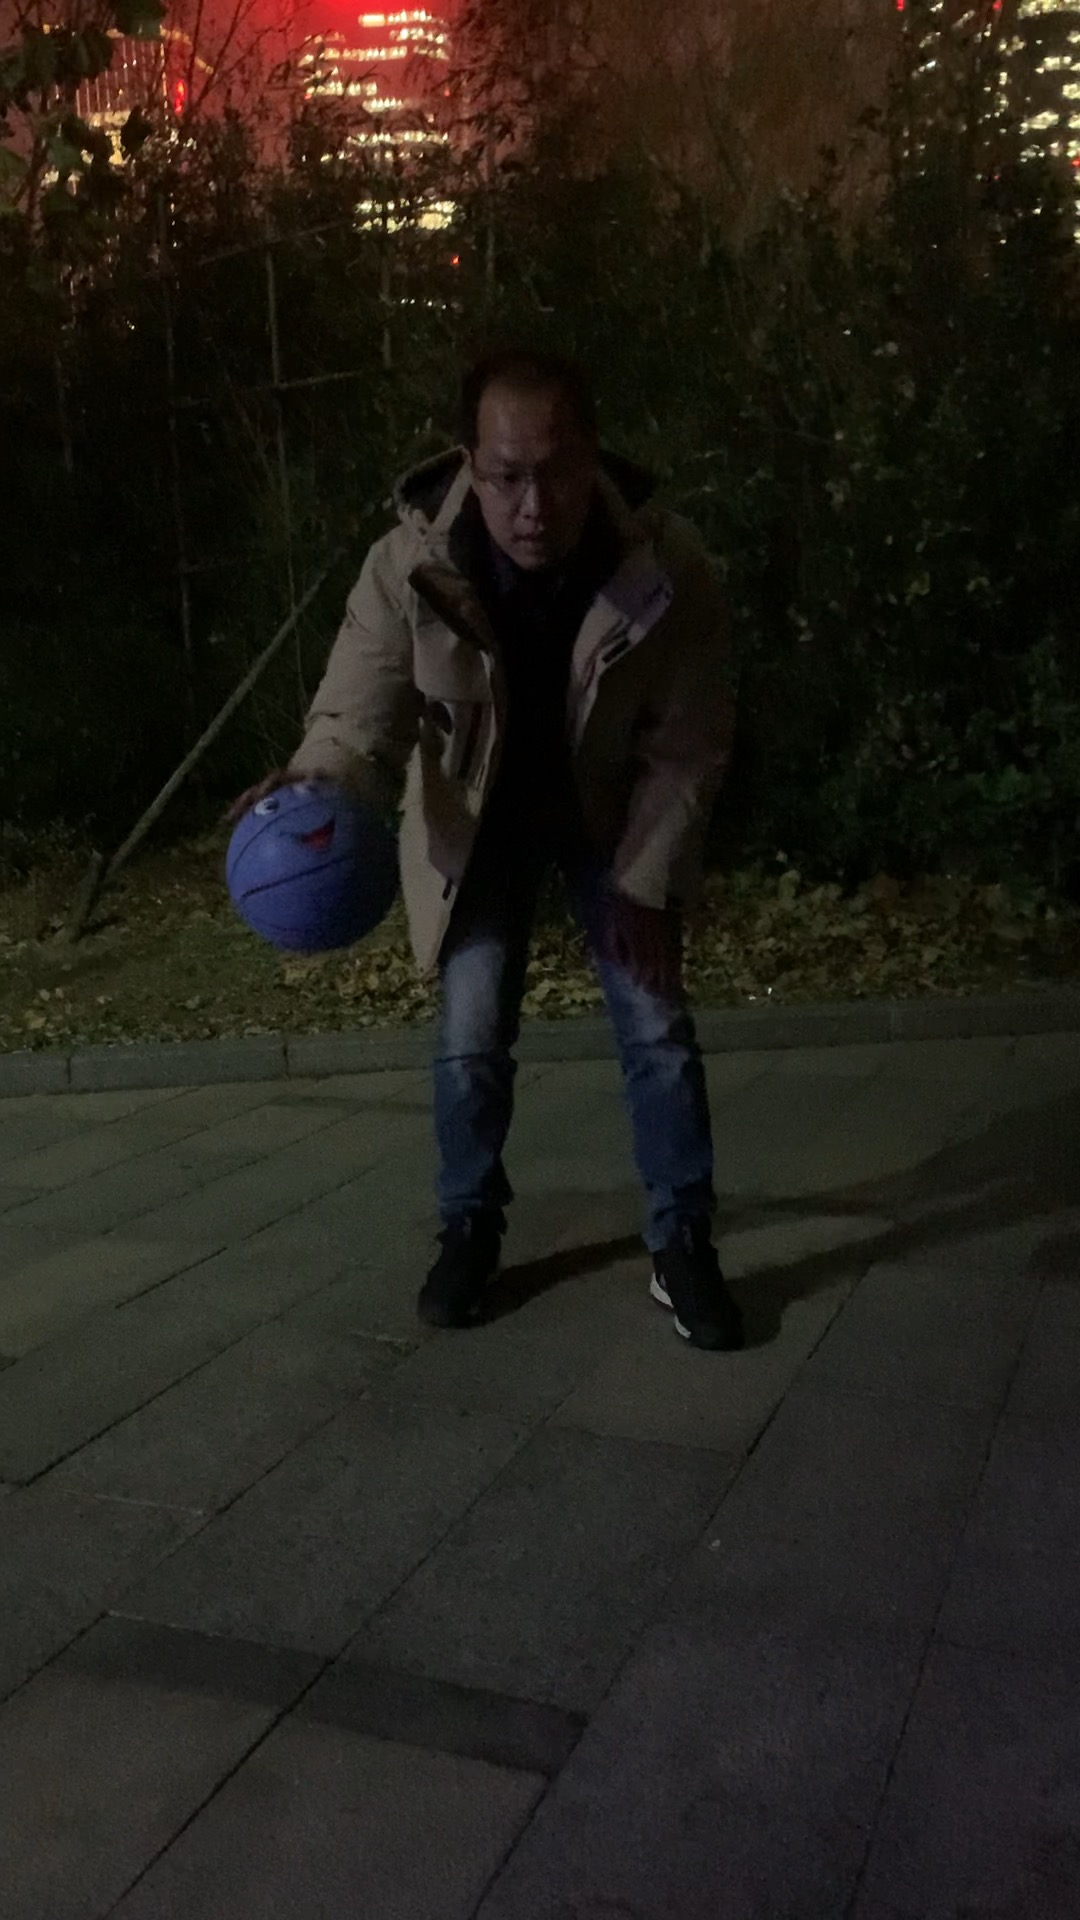ball: (228, 778, 396, 957)
